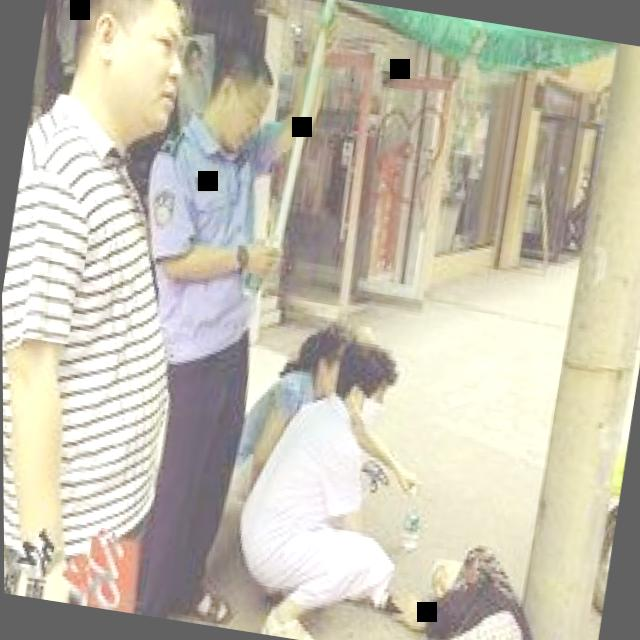Fall-Detected: (325, 489, 576, 640)
